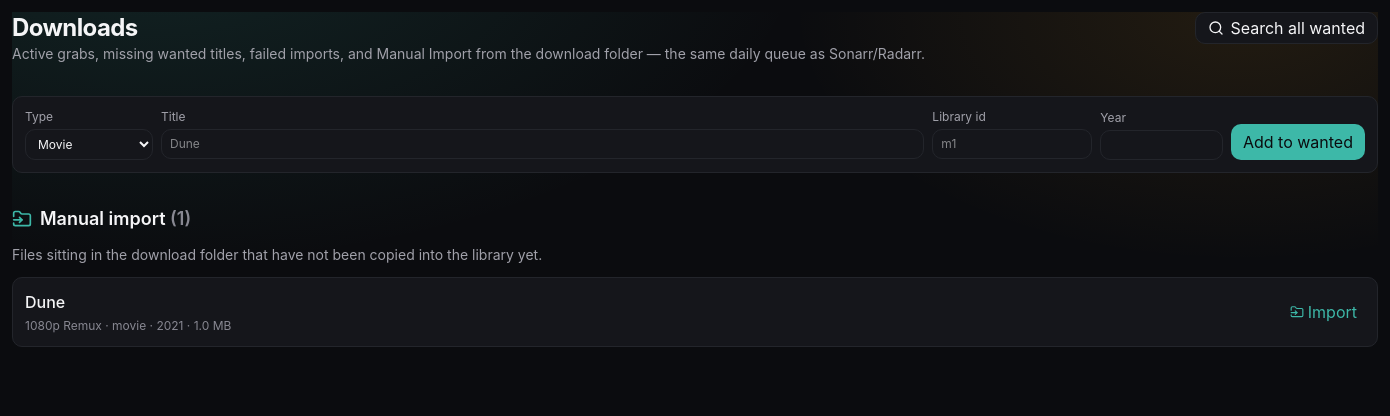
it: Activity page › imports a file sitting in the download folder
Expected: the element with test id "activity-import" is shown, [12,205,1378,347]
Expected: the text "Dune" is shown, [25,292,65,312]
Click the button "Import": (1323, 312) [1282,296,1365,328]
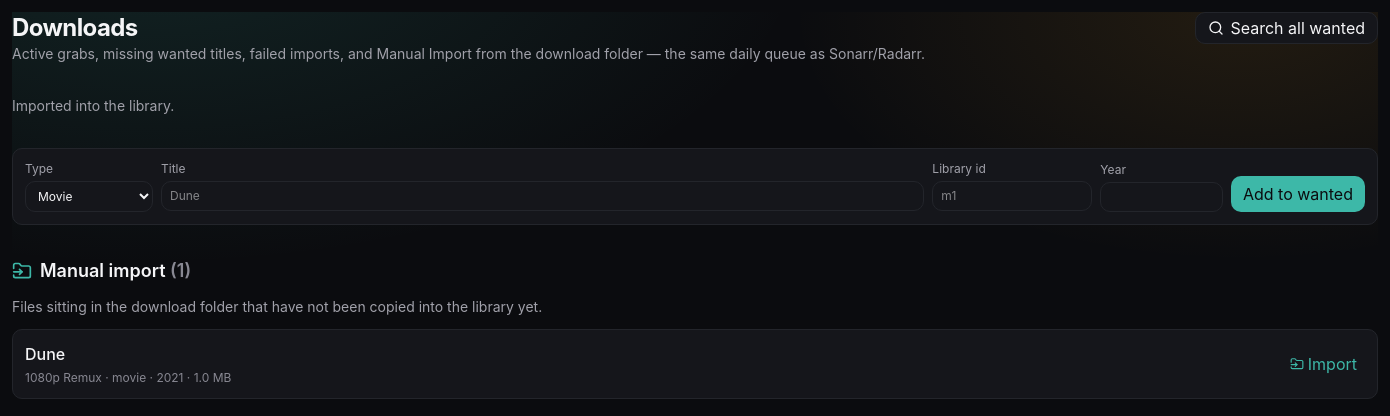
Result: the text with test id "activity-flash" shows "Imported into the library" at [12,97,174,114]
